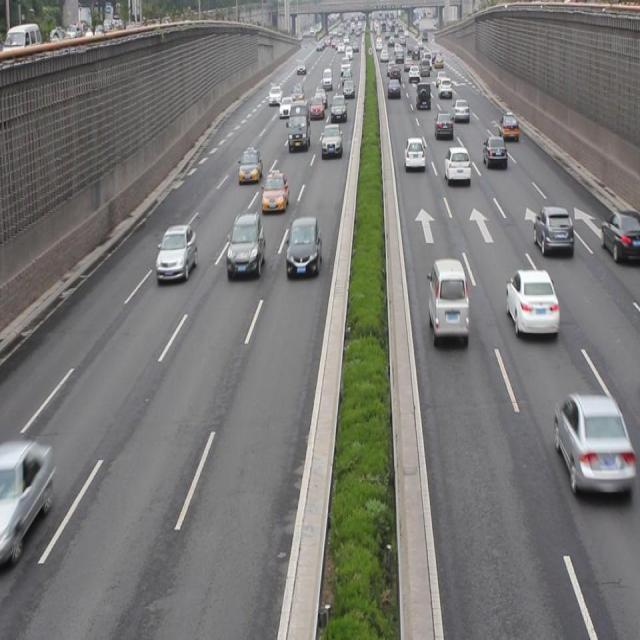car: (553, 390, 631, 492), (0, 439, 52, 548), (504, 269, 558, 334), (226, 212, 265, 280), (156, 221, 197, 282), (285, 215, 321, 278), (599, 209, 640, 263), (532, 204, 572, 256), (261, 171, 288, 213), (442, 144, 470, 183), (482, 134, 507, 168), (402, 135, 425, 171), (238, 147, 262, 180), (320, 122, 342, 158), (497, 113, 519, 141), (434, 110, 453, 141), (452, 96, 469, 123)
truck: (427, 259, 468, 336), (286, 98, 310, 150)
